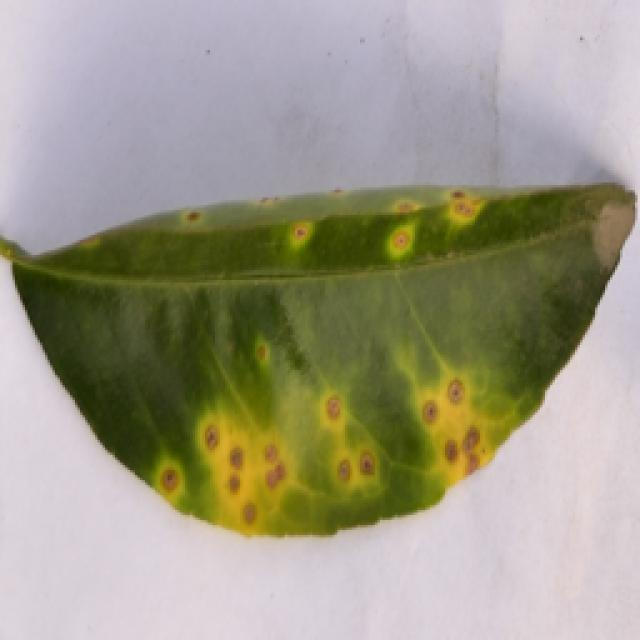canker: (10, 181, 628, 538)
